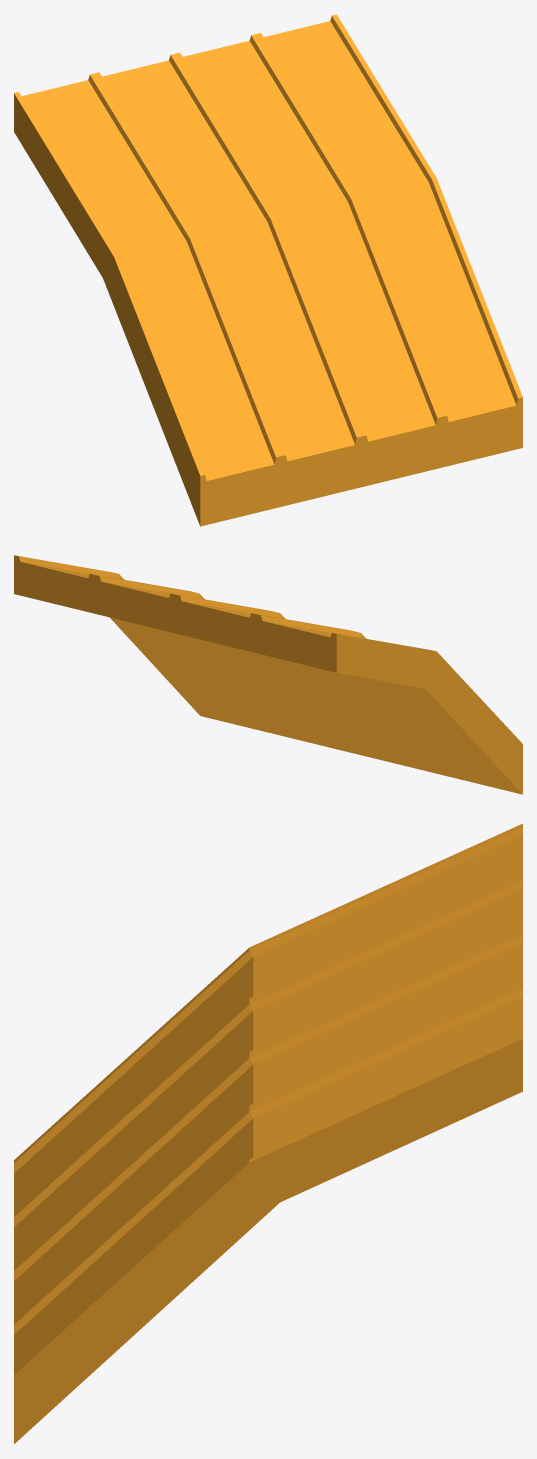
File: SM_Roof_Metal_Regular_Moderate_2x2m.fbx
3 views of the same model, one above another, from view 1: azimuth 30°, elevation 25°; view 2: azimuth 150°, elevation 25°; view 3: azimuth 270°, elevation 25° (orthographic). The views are drawn at different scales.
Parts seen in each view (by area): view 1: roof-metal-regular-moderate-2x2m; view 2: roof-metal-regular-moderate-2x2m; view 3: roof-metal-regular-moderate-2x2m.
Part boxes in pixels (x1,y1,x2,y2): roof-metal-regular-moderate-2x2m: [14, 14, 522, 526]; roof-metal-regular-moderate-2x2m: [14, 555, 522, 794]; roof-metal-regular-moderate-2x2m: [14, 823, 522, 1443].
Bounding box in the file's own units: 2 × 1.76 × 2.
